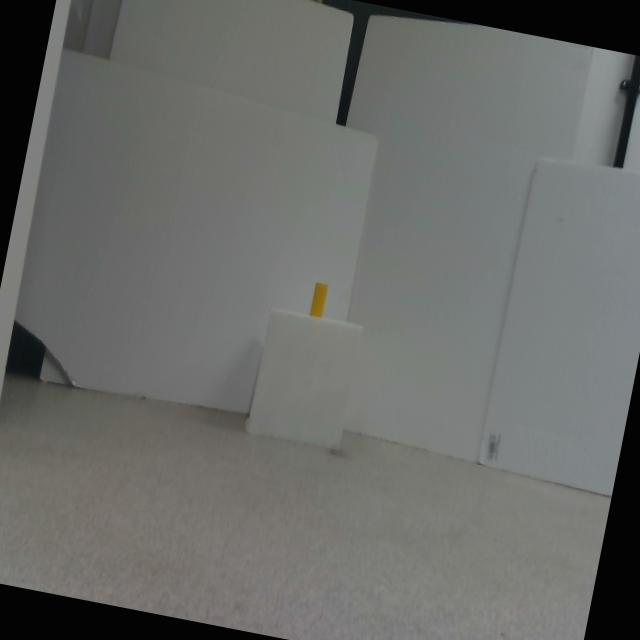yellow_cylinder: (310, 282, 328, 318)
